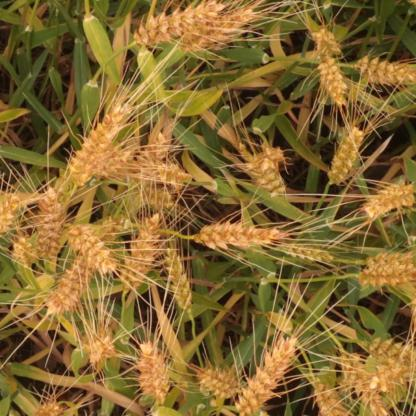whd: (232, 335, 300, 416), (64, 102, 126, 188), (131, 0, 229, 52), (40, 248, 97, 322), (116, 209, 164, 292), (185, 3, 266, 52), (338, 353, 392, 416), (132, 336, 176, 404), (71, 215, 119, 277), (32, 183, 66, 264), (241, 145, 288, 199), (127, 131, 174, 185), (324, 124, 366, 184), (188, 224, 284, 250), (359, 181, 416, 223), (314, 52, 353, 109), (357, 54, 416, 90), (163, 247, 195, 313), (356, 246, 416, 280), (134, 160, 196, 192), (192, 365, 245, 402), (276, 236, 335, 265), (84, 145, 134, 179), (364, 337, 416, 368), (81, 323, 119, 363), (310, 380, 349, 416), (305, 23, 346, 57), (132, 179, 174, 212), (358, 265, 416, 288), (6, 234, 42, 270), (364, 362, 406, 392), (90, 214, 131, 243), (0, 194, 26, 238), (32, 397, 65, 416), (256, 145, 283, 166)
